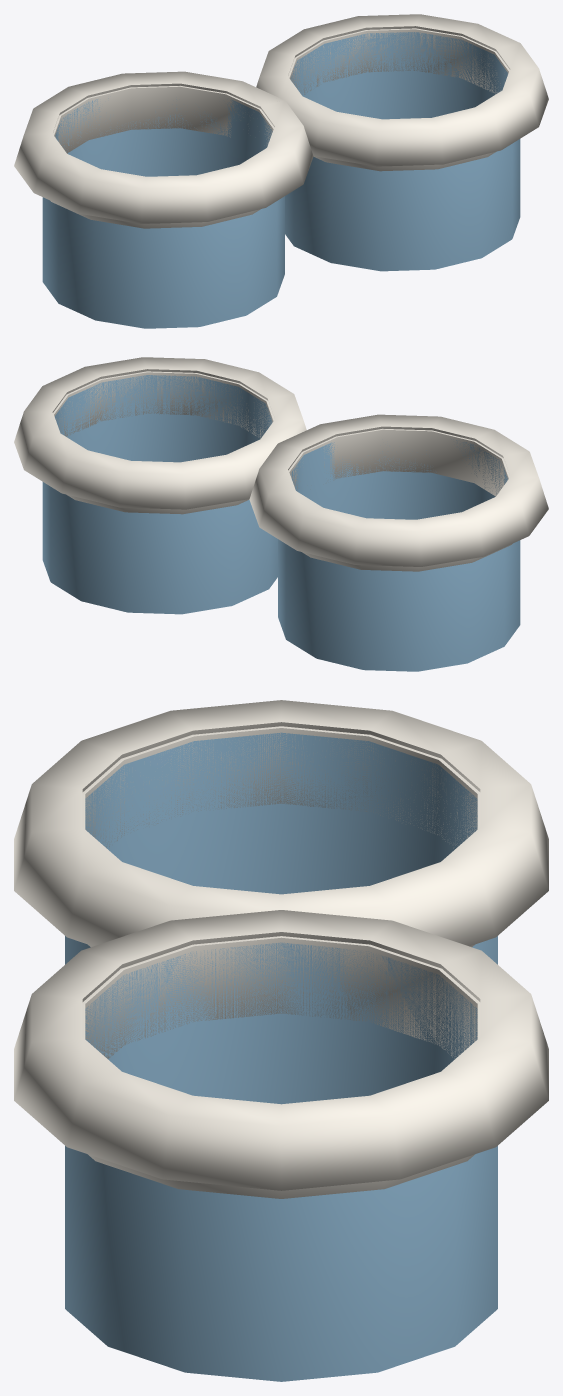
Rendered from lace_socks.glb.
3 renders of one model, top to bottom at view 1: azimuth 30°, elevation 25°; view 2: azimuth 150°, elevation 25°; view 3: azimuth 270°, elevation 25°, orthographic. The views are drawn at different scales.
Visible parts, largest first — view 1: lace_socks_LegL, lace_socks_LegR; view 2: lace_socks_LegL, lace_socks_LegR; view 3: lace_socks_LegR, lace_socks_LegL.
Part boxes in pixels (x1,y1,x2,y2): lace_socks_LegL: [14, 71, 313, 328]; lace_socks_LegR: [256, 14, 548, 271]; lace_socks_LegL: [249, 414, 548, 671]; lace_socks_LegR: [14, 357, 306, 614]; lace_socks_LegR: [14, 910, 548, 1381]; lace_socks_LegL: [14, 700, 548, 964].
Size of the model in its own units: 0.4 by 0.114 by 0.2047.
